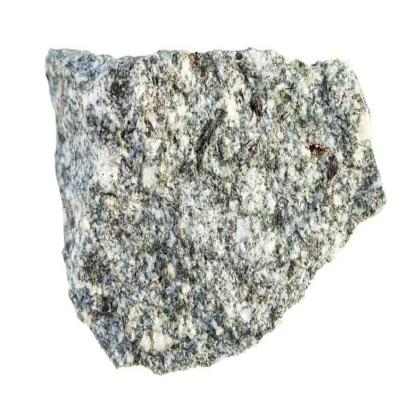Igneous_Diorite: (45, 33, 388, 369)
